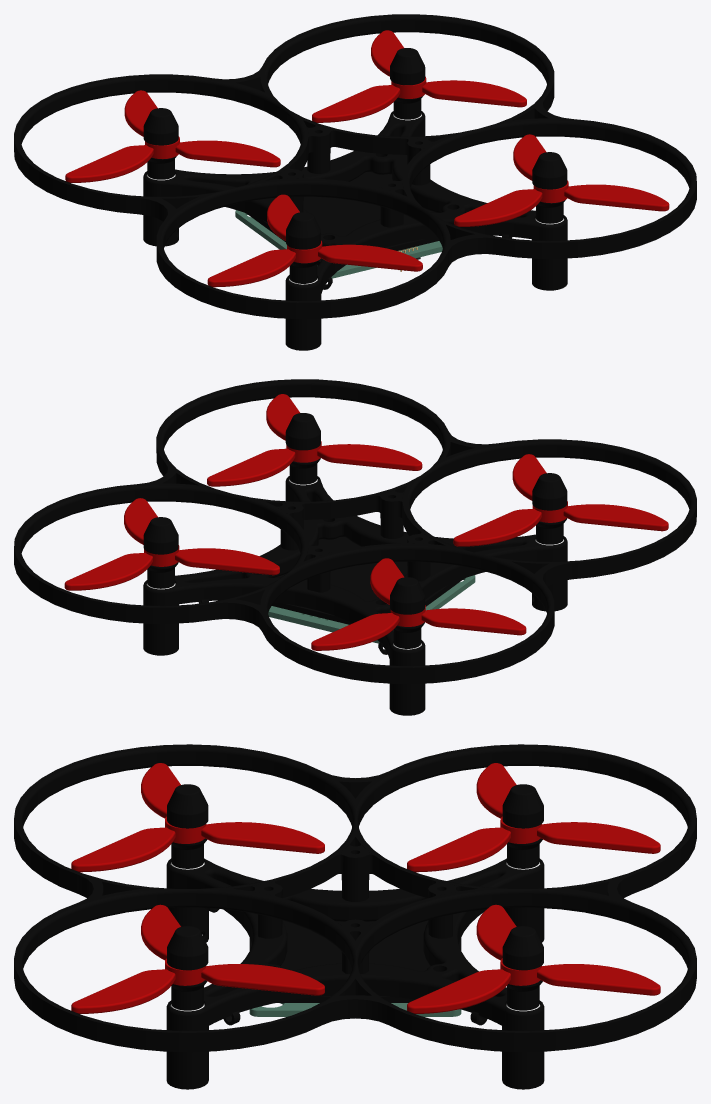
The model's file is droneModel.glb.
3 views of the same model, one above another, from view 1: azimuth 30°, elevation 25°; view 2: azimuth 150°, elevation 25°; view 3: azimuth 270°, elevation 25° (orthographic). The views are drawn at different scales.
Parts seen in each view (by area): view 1: Solid1 (×15), Solid2; view 2: Solid1 (×15), Solid2; view 3: Solid1 (×15), Solid2.
Boxes of the visible parts, x1,y1,x2,y2 form: Solid1 (×15): (14, 14, 696, 318); Solid2: (143, 111, 567, 350); Solid1 (×15): (14, 379, 696, 683); Solid2: (143, 476, 567, 715); Solid1 (×15): (14, 744, 696, 1052); Solid2: (166, 858, 544, 1089).
Size of the model in its own units: 0.1612 by 0.039 by 0.1612.
